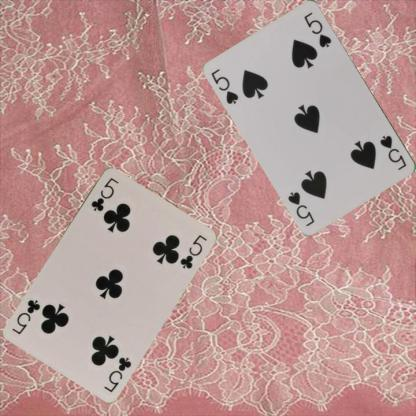5c: (101, 353, 133, 394), (88, 174, 121, 212)
5s: (377, 132, 408, 172), (209, 66, 240, 106)
